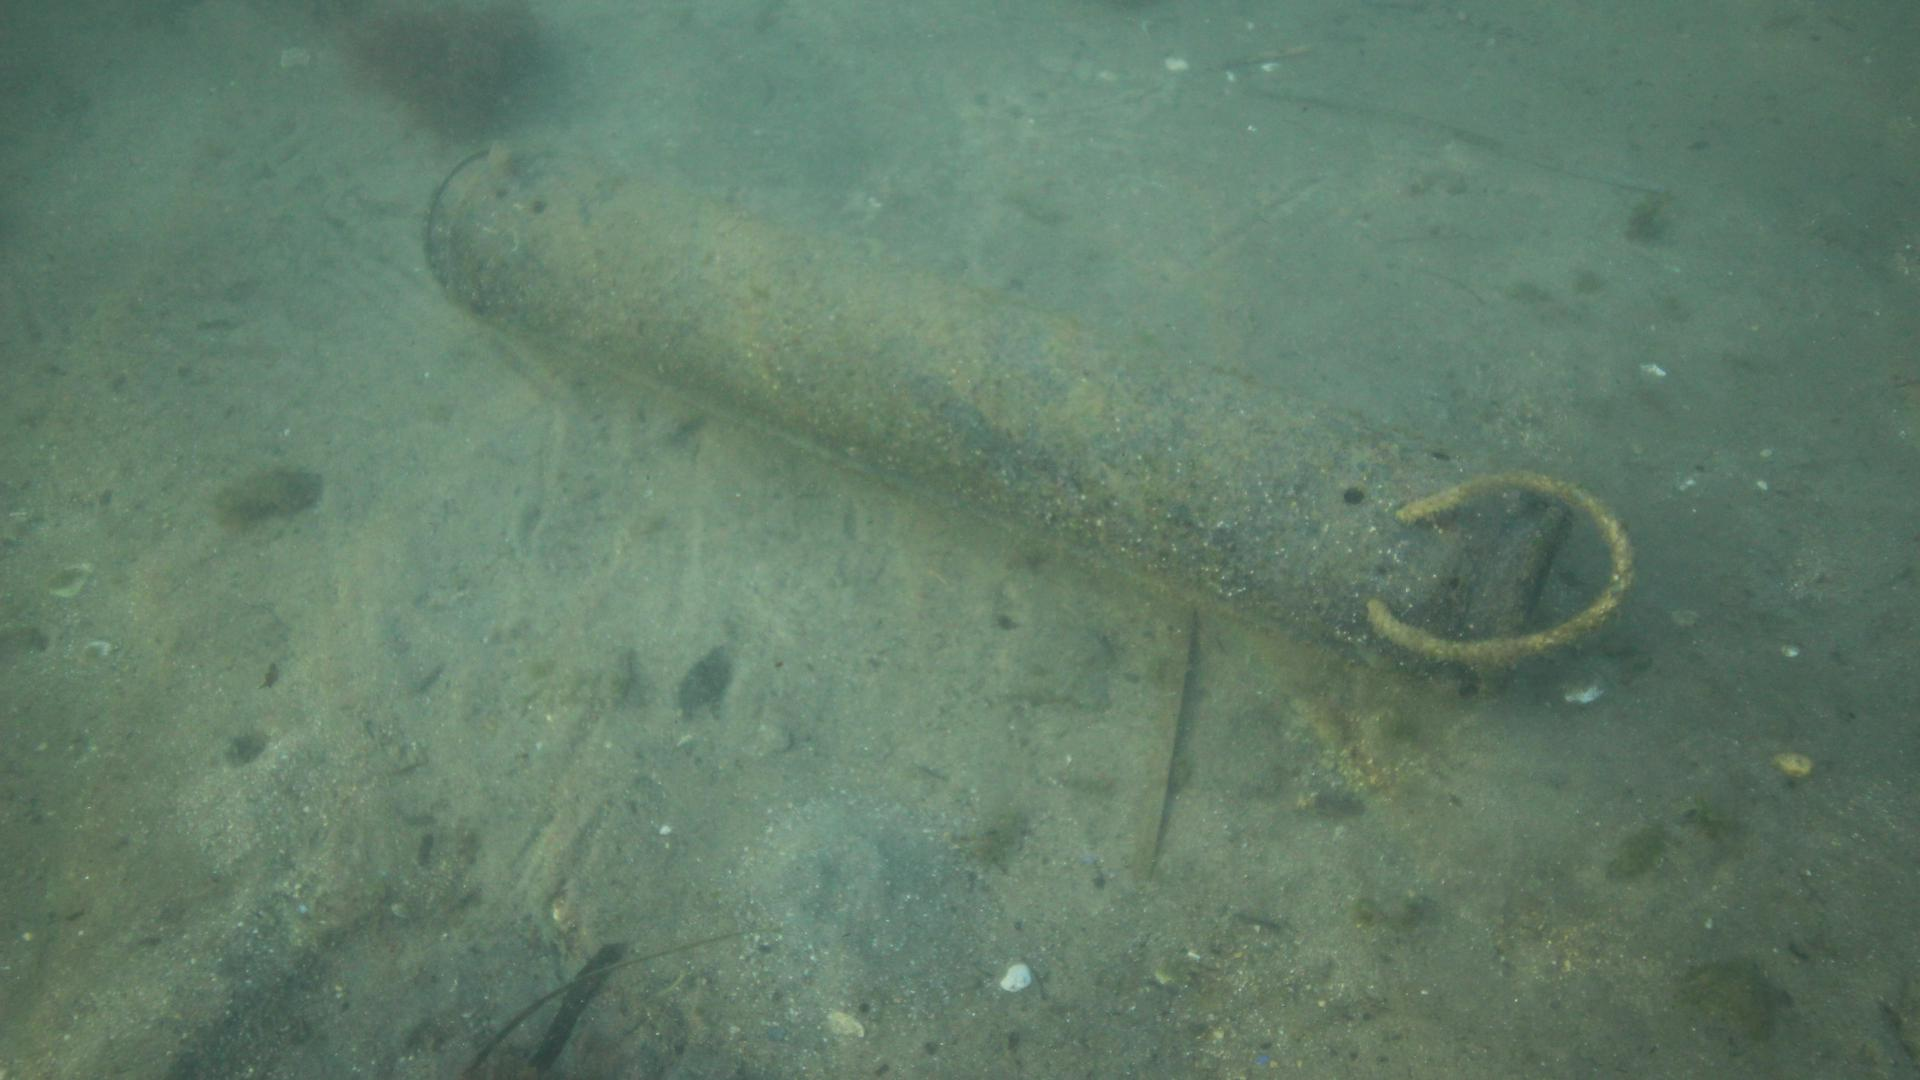eel fish trap: (419, 142, 1575, 695)
rope: (1364, 469, 1635, 665)
